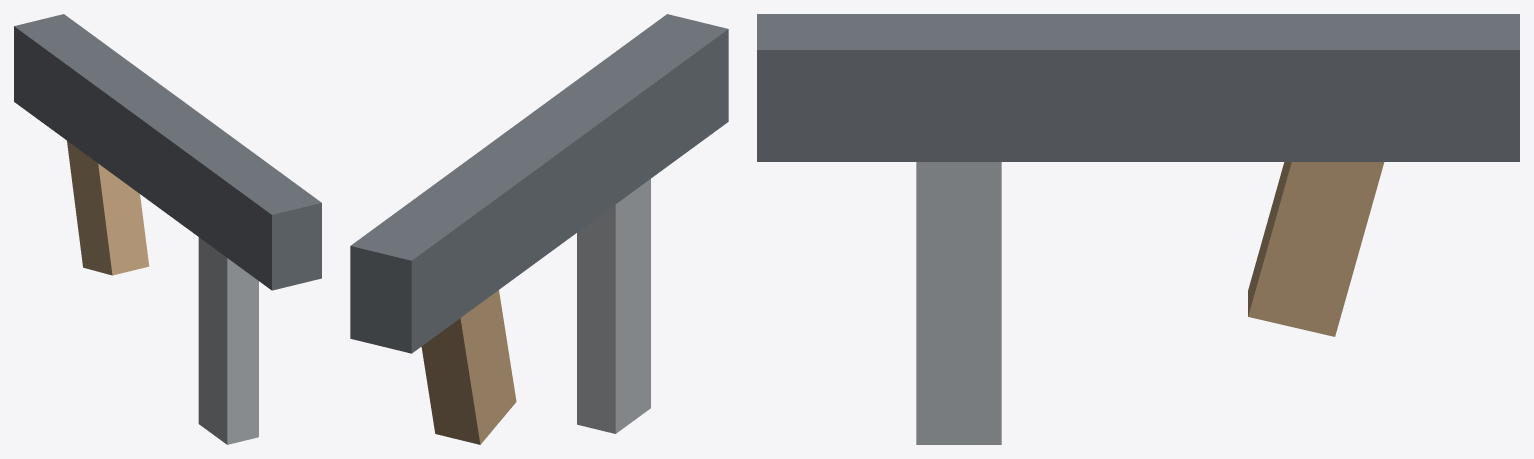
The model's file is SM_CustomSMG.fbx.
3 renders of one model, left to right at view 1: azimuth 30°, elevation 25°; view 2: azimuth 150°, elevation 25°; view 3: azimuth 270°, elevation 25°, orthographic. The views are drawn at different scales.
Visible parts, largest first — view 1: SM_CustomSMG; view 2: SM_CustomSMG; view 3: SM_CustomSMG.
Part boxes in pixels (x1,y1,x2,y2): SM_CustomSMG: (14, 14, 321, 444); SM_CustomSMG: (350, 14, 728, 444); SM_CustomSMG: (757, 14, 1519, 444).
Size of the model in its own units: 380 by 3400 by 1975.
